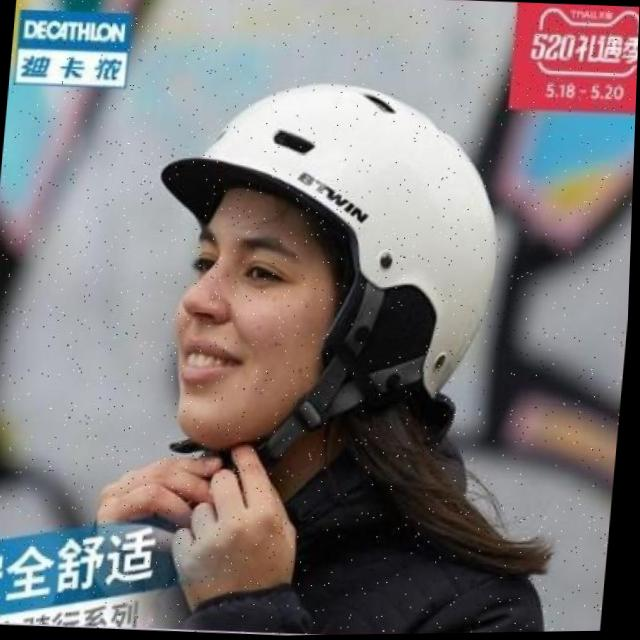helmet: (144, 74, 516, 480)
